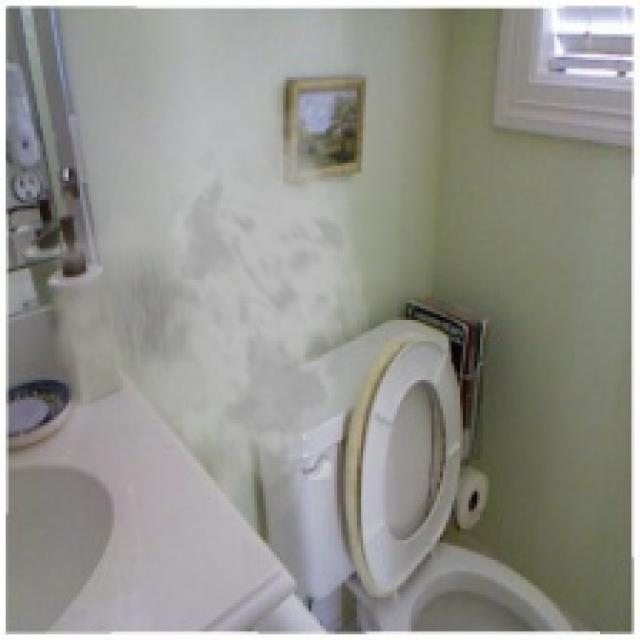smoke: (20, 103, 371, 523)
